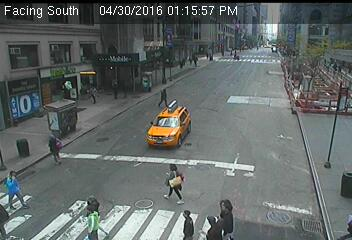neg: (206, 59, 225, 84), (231, 102, 249, 126), (256, 147, 273, 170), (104, 25, 119, 46), (10, 82, 25, 102), (284, 22, 299, 42), (280, 188, 294, 208), (47, 30, 61, 49), (19, 51, 33, 69), (203, 19, 216, 36), (328, 145, 341, 161), (193, 129, 205, 145), (301, 152, 311, 166), (202, 93, 212, 106), (93, 148, 103, 161), (277, 65, 286, 77), (305, 71, 314, 83), (281, 117, 290, 129), (163, 17, 172, 29), (230, 157, 239, 168), (138, 128, 146, 139), (308, 41, 316, 52), (248, 83, 256, 93), (42, 95, 50, 105), (270, 44, 277, 53), (240, 68, 246, 76), (250, 19, 256, 27), (334, 29, 340, 37), (170, 128, 175, 135)
pos: (77, 194, 108, 237), (158, 161, 189, 202), (210, 197, 240, 237), (37, 129, 64, 164), (175, 206, 199, 237), (201, 207, 224, 237), (82, 79, 102, 105), (155, 87, 170, 107), (108, 78, 123, 98), (120, 80, 133, 98), (180, 56, 187, 66), (193, 54, 200, 63), (179, 59, 185, 68), (187, 56, 193, 63), (254, 44, 259, 50), (233, 49, 237, 55)
